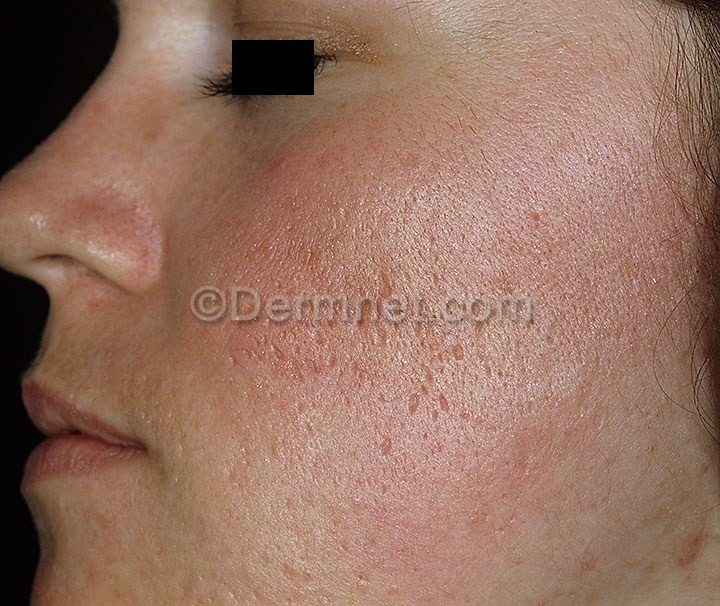Acne: (203, 128, 584, 435)
